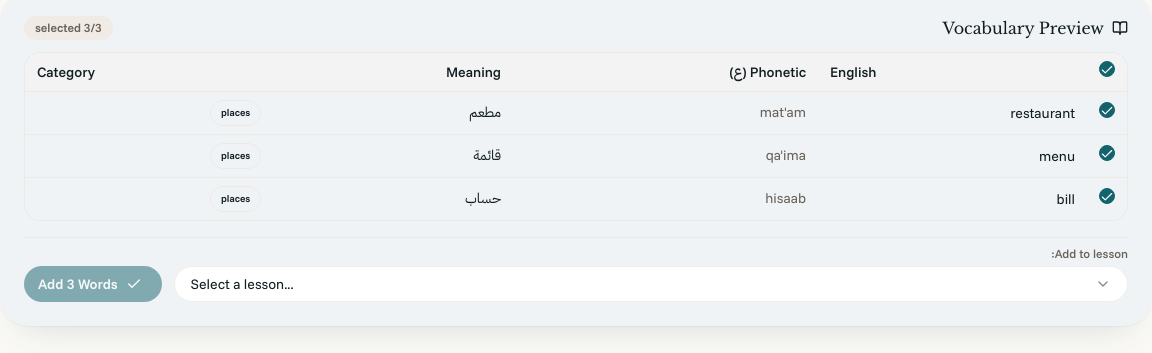
Test: choosing what to keep › takes everything back at once
Click the checkbox in the row of "English" at (1107, 69), box [1099, 61, 1115, 77]
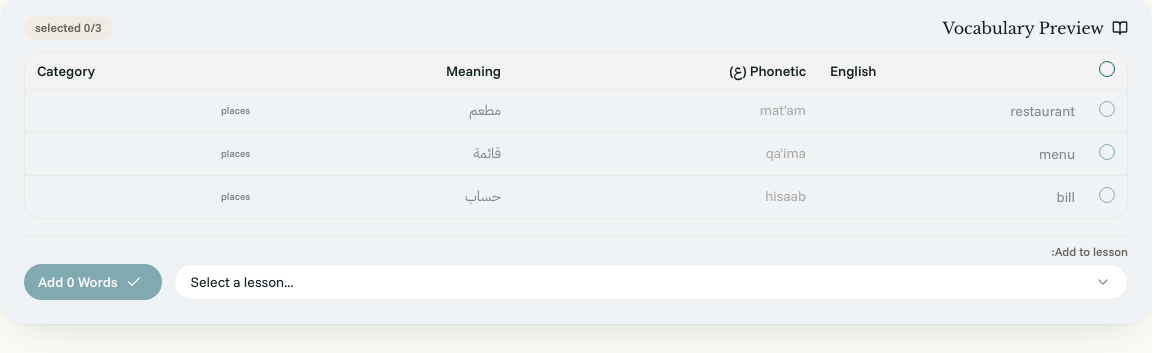
Click the checkbox in the row of "English" at (1107, 69), box [1099, 61, 1115, 77]
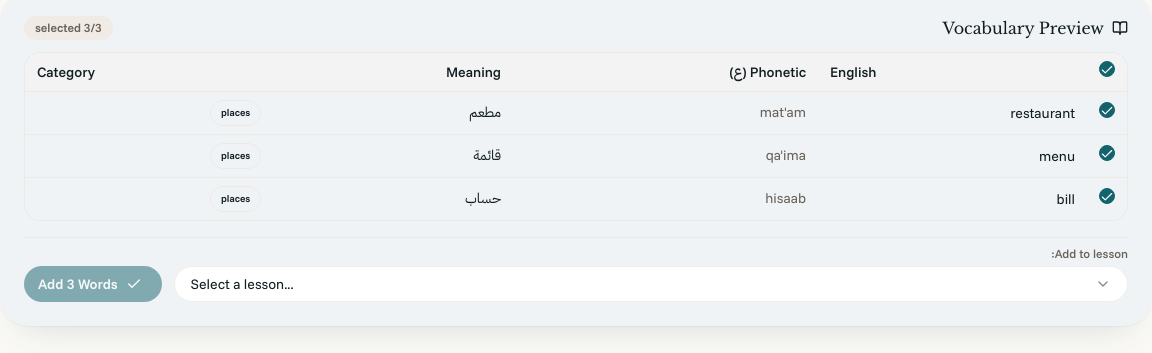
Expected: the text "3/3 selected" is shown, [24, 16, 113, 40]
